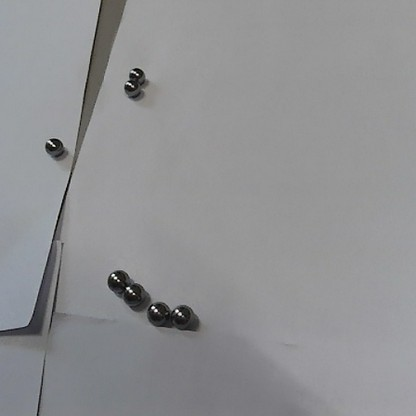ironball: (146, 300, 170, 325), (107, 269, 127, 291), (171, 304, 190, 327), (122, 283, 141, 304), (44, 136, 63, 156), (123, 78, 139, 96), (128, 66, 143, 81)
